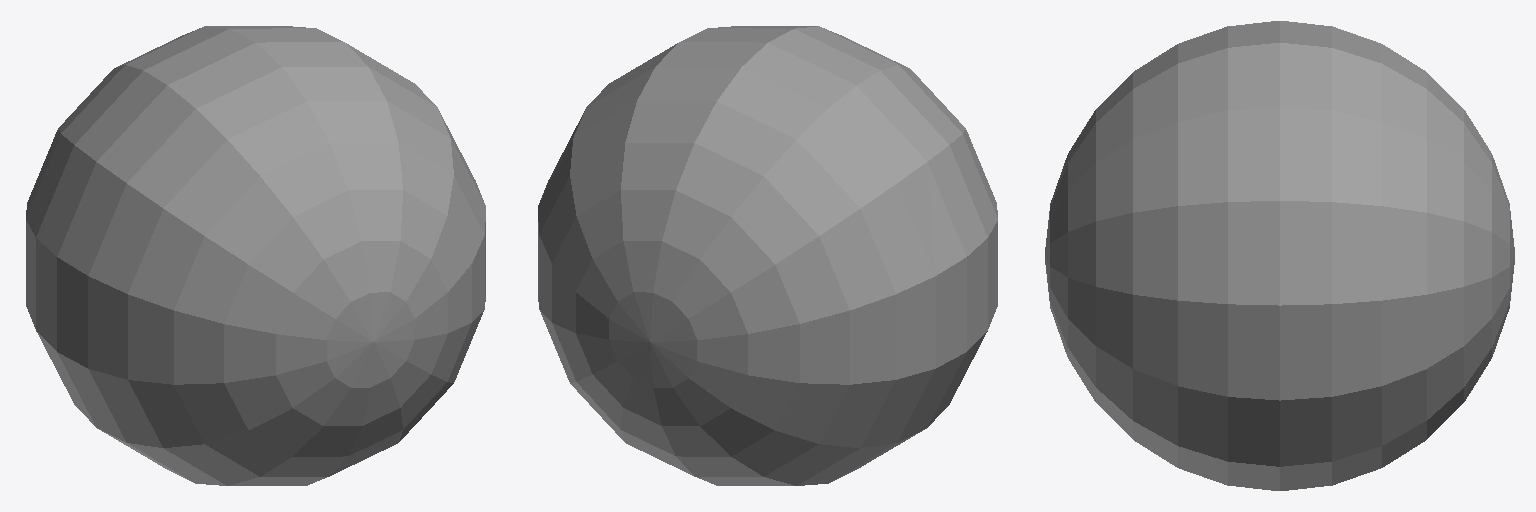
File: 8ball.obj
3 views of the same model, side by side, from view 1: azimuth 30°, elevation 25°; view 2: azimuth 150°, elevation 25°; view 3: azimuth 270°, elevation 25° (orthographic).
Visible parts, largest first — view 1: ball_Sphere.007; view 2: ball_Sphere.007; view 3: ball_Sphere.007.
Part boxes in pixels (bbox=[...]): ball_Sphere.007: bbox=[26, 26, 485, 485]; ball_Sphere.007: bbox=[538, 26, 997, 485]; ball_Sphere.007: bbox=[1045, 21, 1514, 490].
Size of the model in its own units: 0.0557 by 0.0571 by 0.0571.